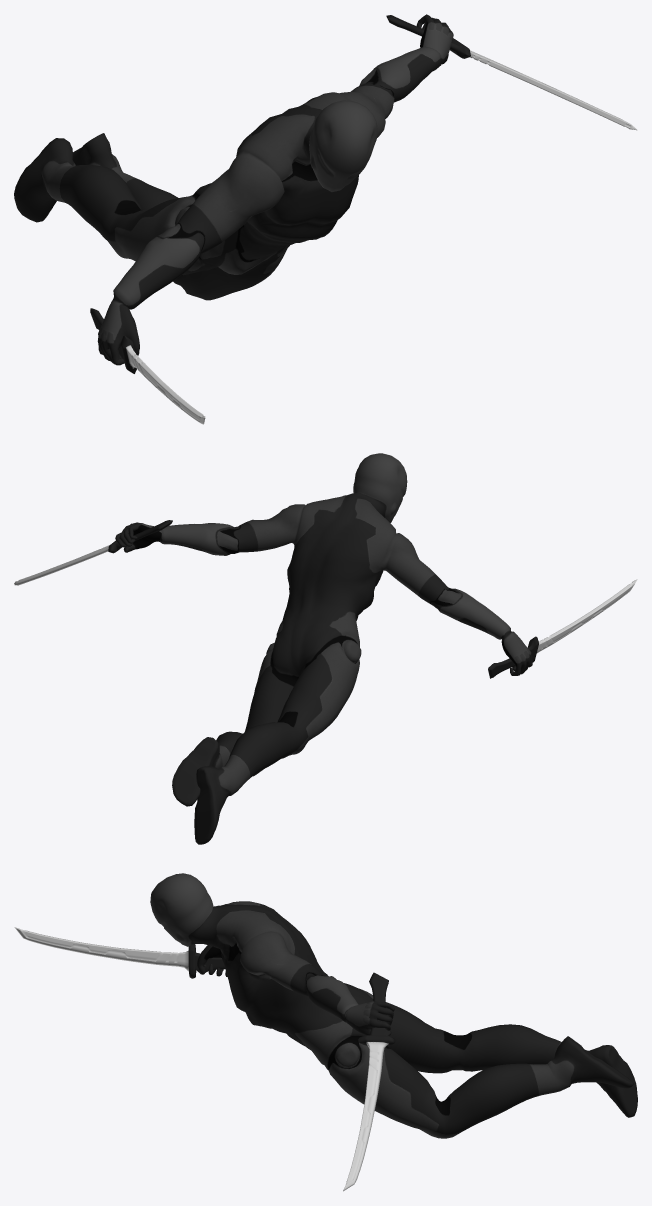
3 views of the same model, one above another, from view 1: azimuth 30°, elevation 25°; view 2: azimuth 150°, elevation 25°; view 3: azimuth 270°, elevation 25° (orthographic). The views are drawn at different scales.
Parts seen in each view (by area): view 1: Cyborg_Ninja_Killer, Sword_l, Sword_l001; view 2: Cyborg_Ninja_Killer, Sword_l001, Sword_l; view 3: Cyborg_Ninja_Killer, Sword_l, Sword_l001.
Boxes of the visible parts, x1=… form: Cyborg_Ninja_Killer: x1=14, y1=14, x2=453, y2=365; Sword_l: x1=386, y1=15, x2=637, y2=130; Sword_l001: x1=90, y1=308, x2=205, y2=424; Cyborg_Ninja_Killer: x1=115, y1=453, x2=532, y2=844; Sword_l001: x1=488, y1=579, x2=637, y2=678; Sword_l: x1=14, y1=520, x2=172, y2=585; Cyborg_Ninja_Killer: x1=150, y1=873, x2=637, y2=1138; Sword_l: x1=343, y1=972, x2=395, y2=1191; Sword_l001: x1=14, y1=927, x2=225, y2=978.
Bounding box in the file's own units: 205 × 96.6 × 213.
2 materials, 2 textured.
